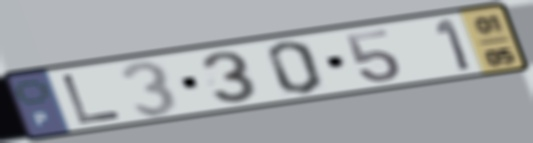0: (265, 38, 328, 97)
1: (432, 16, 476, 74)
3: (119, 56, 182, 121), (198, 49, 260, 106)
5: (340, 27, 403, 84)
L: (57, 72, 126, 126)
